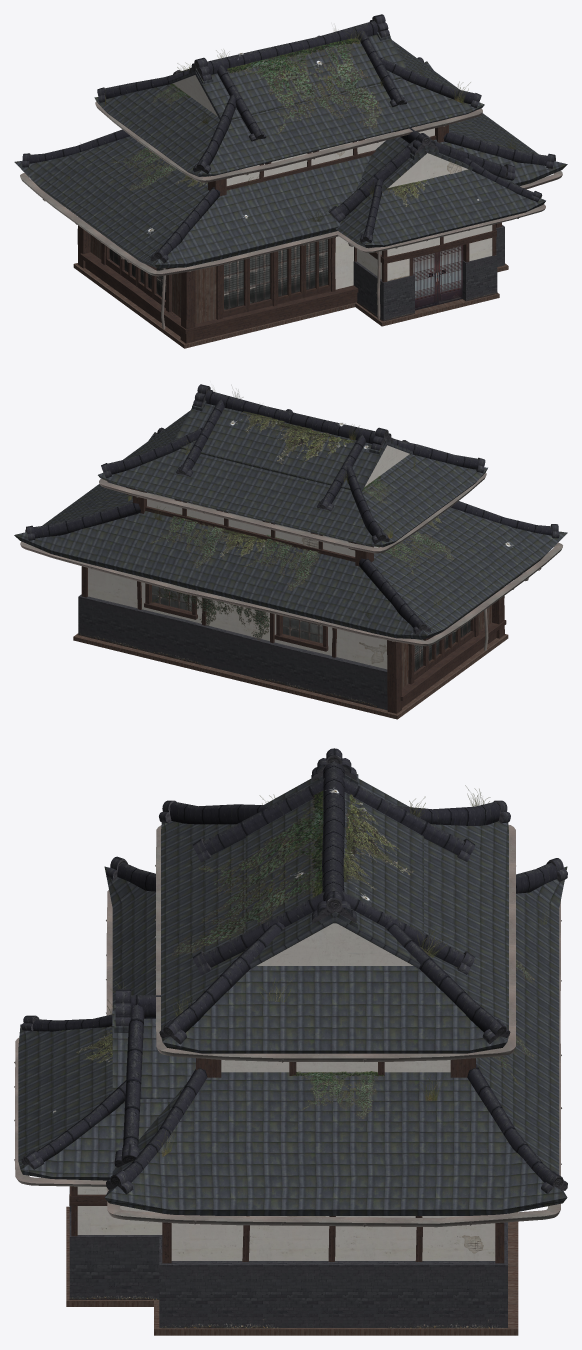
The model's file is dae_final_assignment_milestone_house.glb.
The picture shows the model from 3 angles, top to bottom: view 1: azimuth 30°, elevation 25°; view 2: azimuth 150°, elevation 25°; view 3: azimuth 270°, elevation 25°; orthographic projection. The views are drawn at different scales.
Parts seen in each view (by area): view 1: MainHouse_01_geo; view 2: MainHouse_01_geo; view 3: MainHouse_01_geo.
Boxes of the visible parts, left/top/right/bottom form: MainHouse_01_geo: left=14, top=14, right=567, bottom=348; MainHouse_01_geo: left=14, top=384, right=567, bottom=719; MainHouse_01_geo: left=14, top=748, right=567, bottom=1335.
Size of the model in its own units: 15.2 by 8.29 by 10.71.
13 materials, 13 textured.
